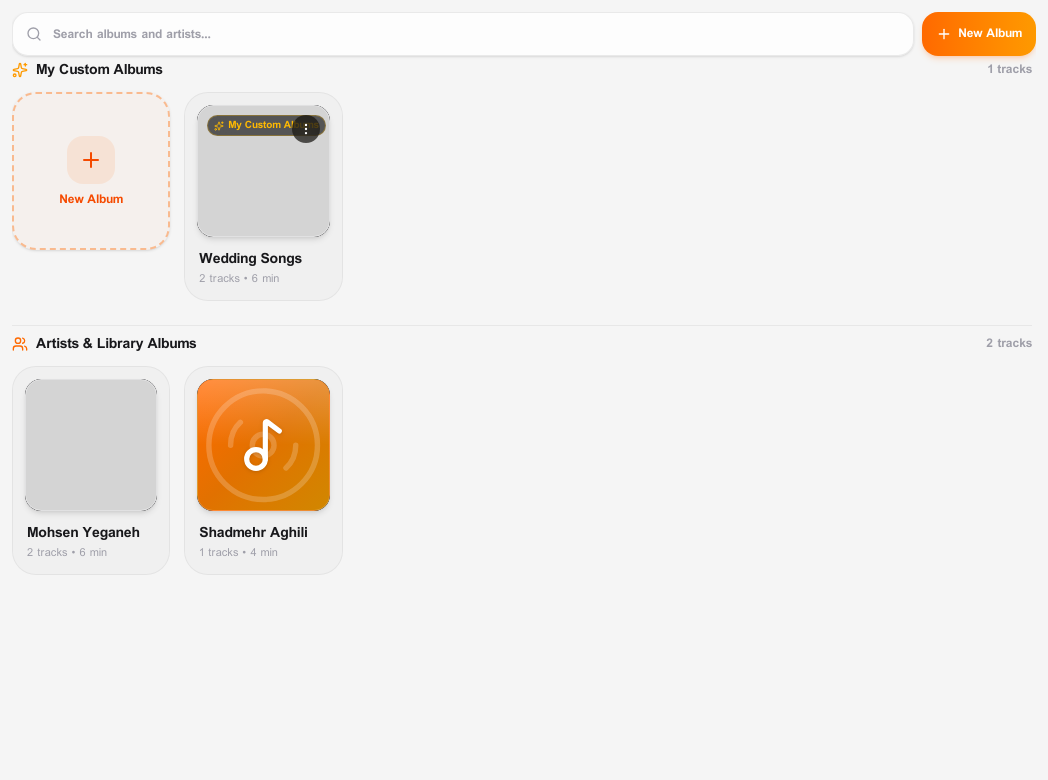
Test: AlbumsView Component › navigates into AlbumDetailView when clicking an album card
This screenshot has width=1048, height=780.
Click the heading "Wedding Songs" at (251, 259), box [199,247,302,271]
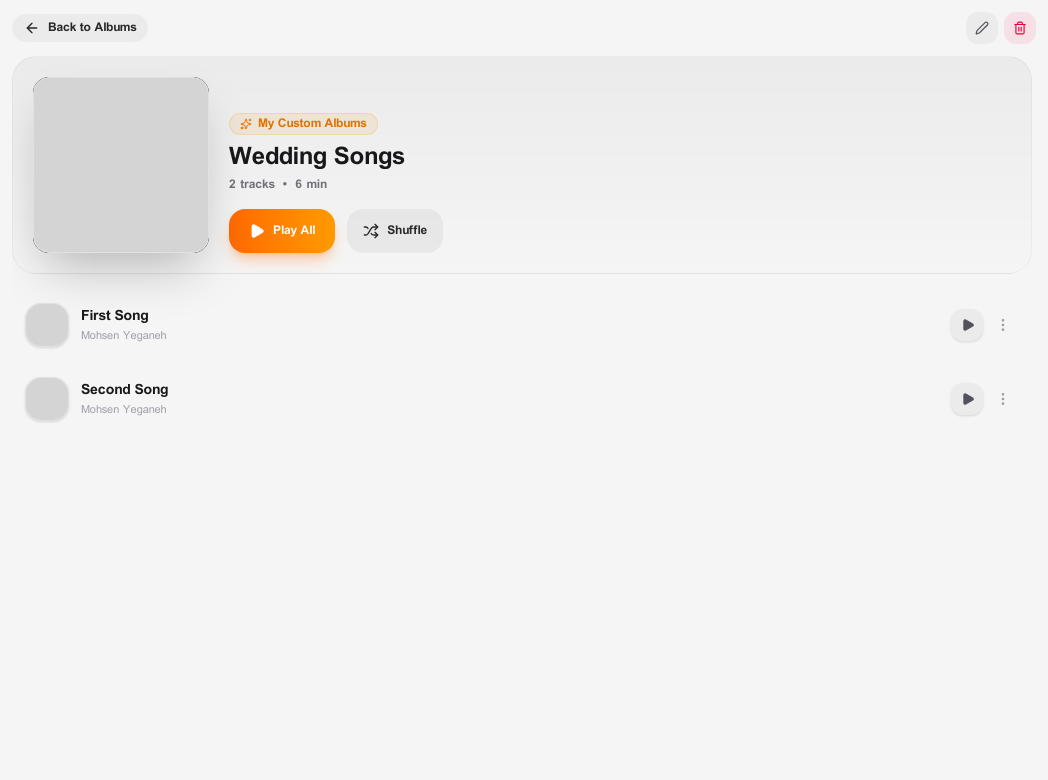
expect the text "Back to Albums" is shown: met, box [48,20,136,36]
expect the text "Play All" is shown: met, box [273,223,315,239]
expect the text "First Song" is shown: met, box [81,306,148,326]
Clicking Back returns to AlbumsView
Click the button "Back to Albums" at (80, 28), box [12,14,148,42]
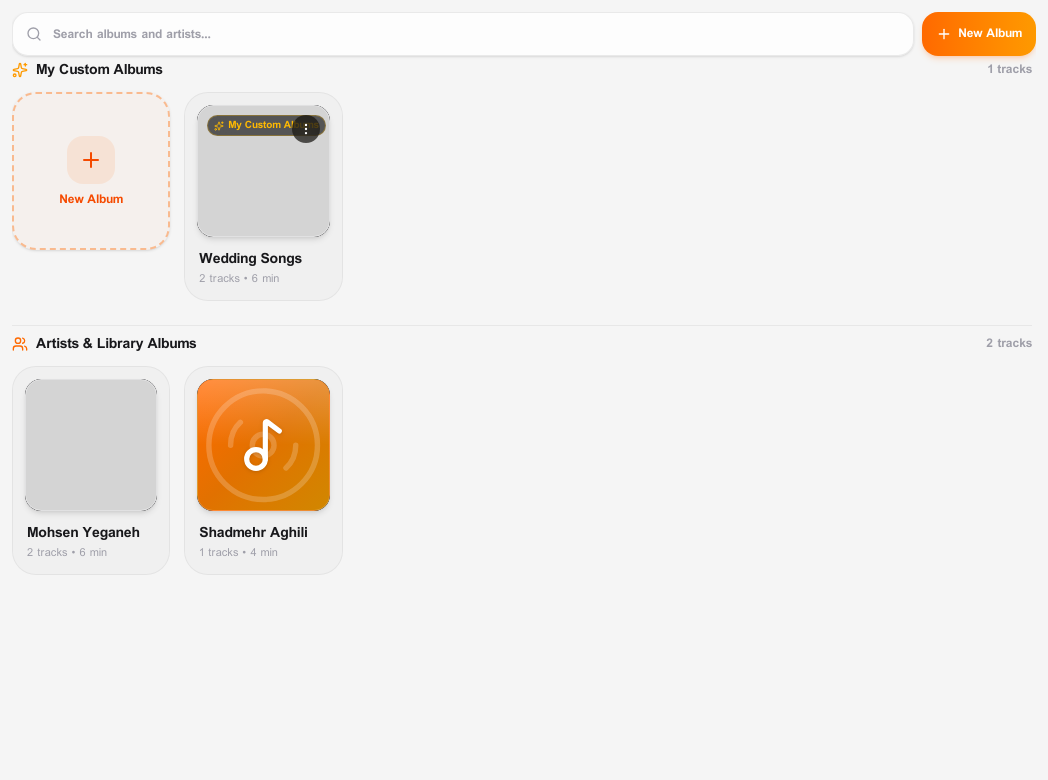
expect the heading "My Custom Albums" is shown: met, box [36,60,163,80]
